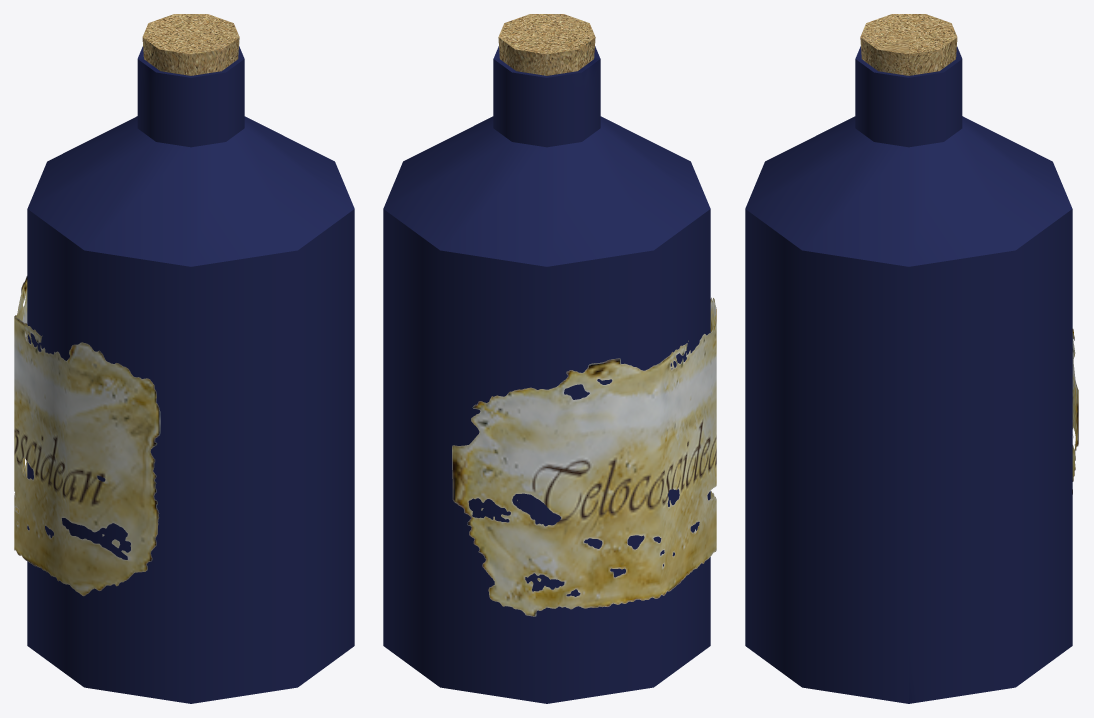
The model's file is bottle3.FBX.
3 views of the same model, side by side, from view 1: azimuth 30°, elevation 25°; view 2: azimuth 150°, elevation 25°; view 3: azimuth 270°, elevation 25° (orthographic).
Parts seen in each view (by area): view 1: bottle3, Object002; view 2: bottle3, Object002; view 3: bottle3, Object002.
Part boxes in pixels (left/top/right/bottom): bottle3: left=14, top=46, right=354, bottom=703; Object002: left=142, top=14, right=239, bottom=75; bottle3: left=383, top=46, right=716, bottom=703; Object002: left=498, top=14, right=595, bottom=75; bottle3: left=745, top=46, right=1078, bottom=703; Object002: left=860, top=14, right=957, bottom=75.
Size of the model in its own units: 19.97 by 39.66 by 20.03.
